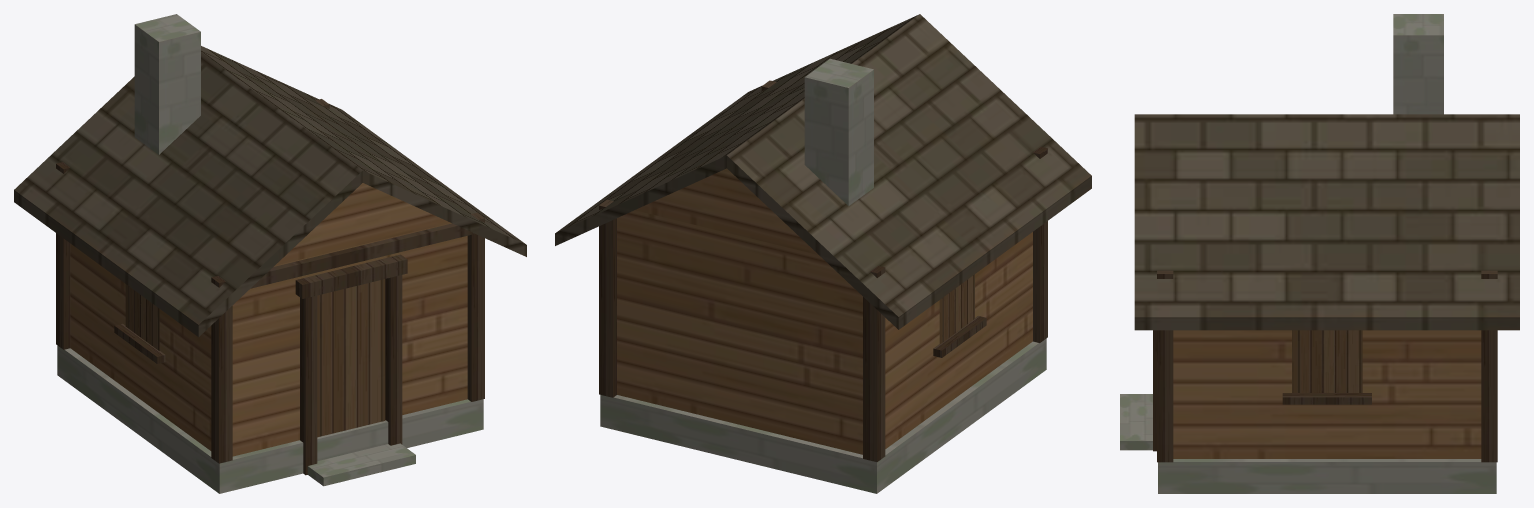
Rendered from ae_forest_wood_small_hut_lod0.glb.
3 views of the same model, side by side, from view 1: azimuth 30°, elevation 25°; view 2: azimuth 150°, elevation 25°; view 3: azimuth 270°, elevation 25° (orthographic). The views are drawn at different scales.
Visible parts, largest first — view 1: ae_forest_wood_small_hut_lod0; view 2: ae_forest_wood_small_hut_lod0; view 3: ae_forest_wood_small_hut_lod0.
Part boxes in pixels (box(x1,y1,x2,y2)): ae_forest_wood_small_hut_lod0: box(14, 14, 526, 493); ae_forest_wood_small_hut_lod0: box(555, 14, 1091, 493); ae_forest_wood_small_hut_lod0: box(1120, 14, 1519, 493).
Bounding box in the file's own units: 3.9 × 4.05 × 3.95.
1 material, 1 textured.
